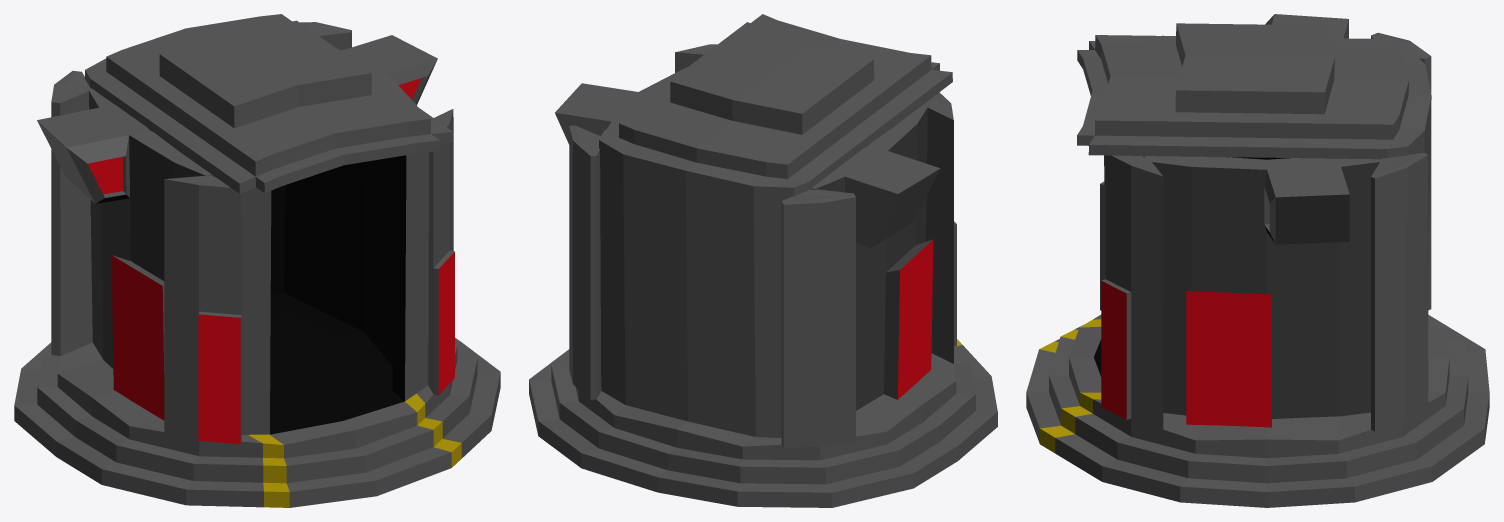
File: Algo.fbx
The picture shows the model from 3 angles, left to right: view 1: azimuth 30°, elevation 25°; view 2: azimuth 150°, elevation 25°; view 3: azimuth 270°, elevation 25°; orthographic projection. The views are drawn at different scales.
Parts seen in each view (by area): view 1: Algo; view 2: Algo; view 3: Algo.
Part boxes in pixels (left/top/right/bottom): Algo: left=14, top=14, right=500, bottom=507; Algo: left=529, top=14, right=997, bottom=507; Algo: left=1026, top=14, right=1489, bottom=507.
Size of the model in its own units: 2840 by 2362 by 2811.
